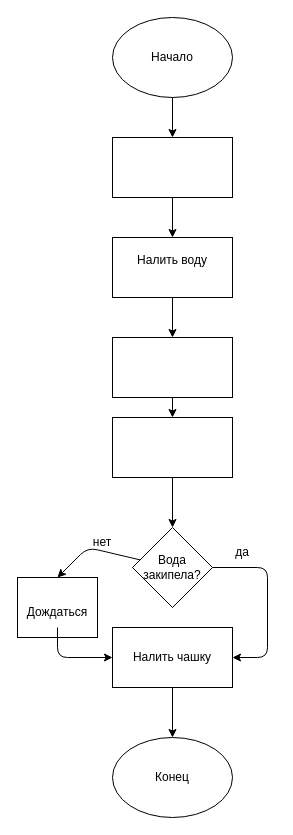
Image size: 293x835. Some labels were removed from this diagram. The box of each missing label's shape, as (x1, y1, x2, y2) in pixels:
Взять чайник: (112, 136, 232, 198)
Включить плиту: (112, 416, 232, 478)
Поставить на плиту: (112, 336, 232, 398)
